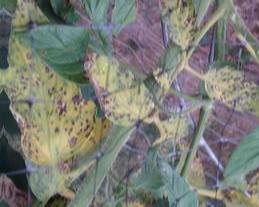Tomato Septoria leaf spot: (0, 0, 97, 168), (80, 32, 162, 130), (194, 58, 256, 111), (150, 0, 201, 48)
